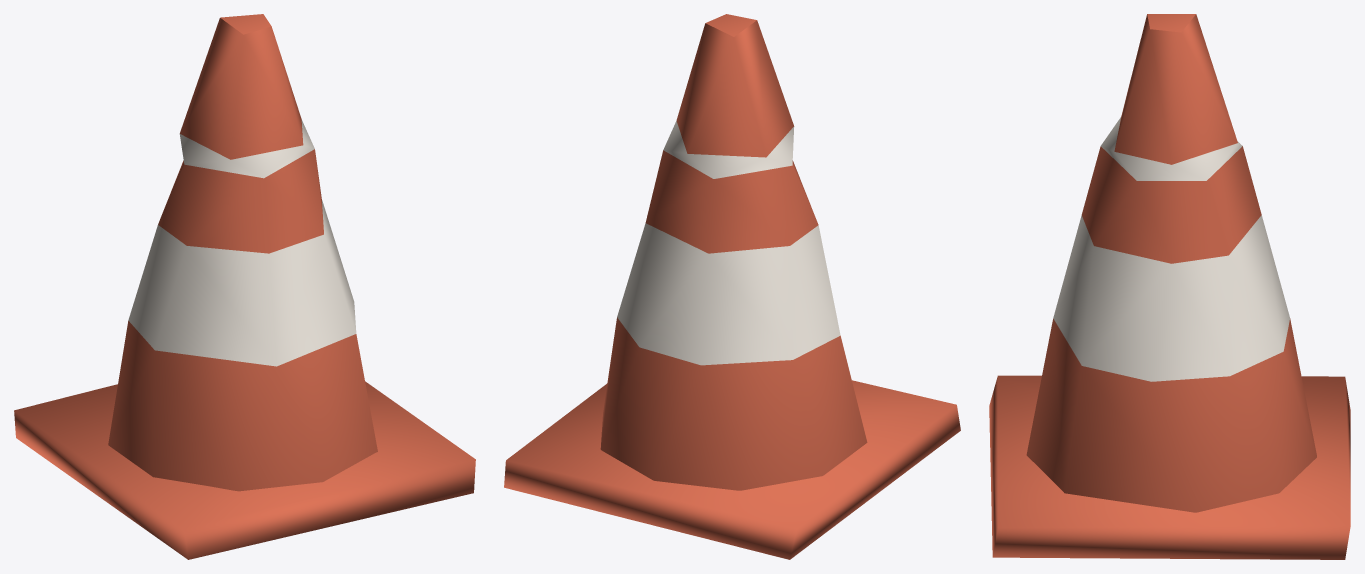
The picture shows the model from 3 angles, left to right: view 1: azimuth 30°, elevation 25°; view 2: azimuth 150°, elevation 25°; view 3: azimuth 270°, elevation 25°; orthographic projection. The views are drawn at different scales.
Visible parts, largest first — view 1: cone; view 2: cone; view 3: cone.
Boxes of the visible parts, bbox=[...] form: cone: bbox=[14, 14, 475, 559]; cone: bbox=[504, 14, 960, 559]; cone: bbox=[989, 14, 1350, 559].
Size of the model in its own units: 0.3663 by 0.5231 by 0.3698.
1 material, 1 textured.
